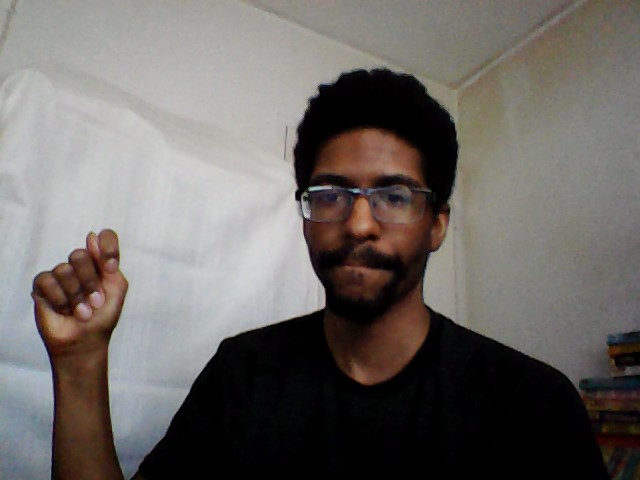t: (25, 224, 134, 351)
